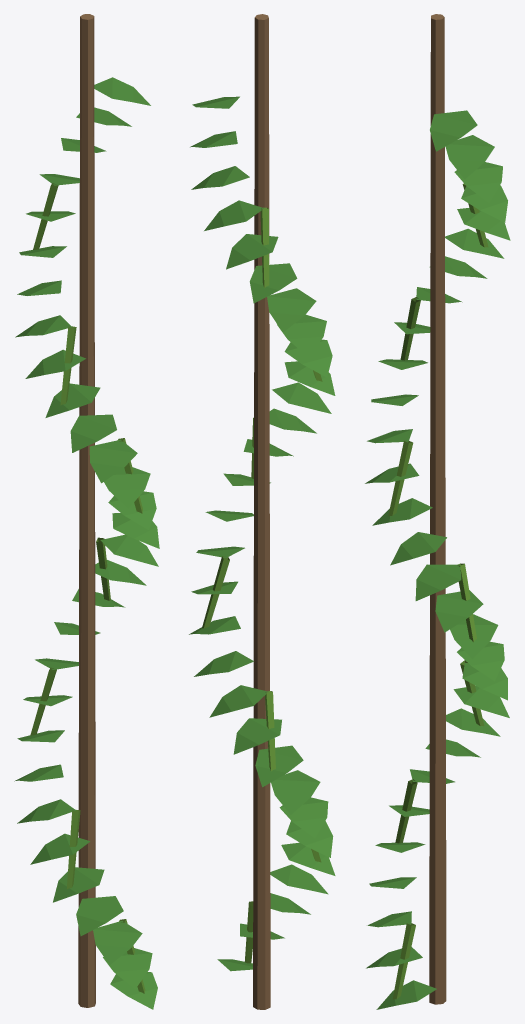
Rendered from pole_beans.glb.
The picture shows the model from 3 angles, left to right: view 1: azimuth 30°, elevation 25°; view 2: azimuth 150°, elevation 25°; view 3: azimuth 270°, elevation 25°; orthographic projection.
Visible parts, largest first — view 1: pole_beans; view 2: pole_beans; view 3: pole_beans.
Boxes of the visible parts, <box> form: pole_beans: <box>14,14,159,1009</box>; pole_beans: <box>189,14,335,1009</box>; pole_beans: <box>365,14,510,1009</box>.
Bounding box in the file's own units: 0.2429 × 1.8 × 0.2427.
